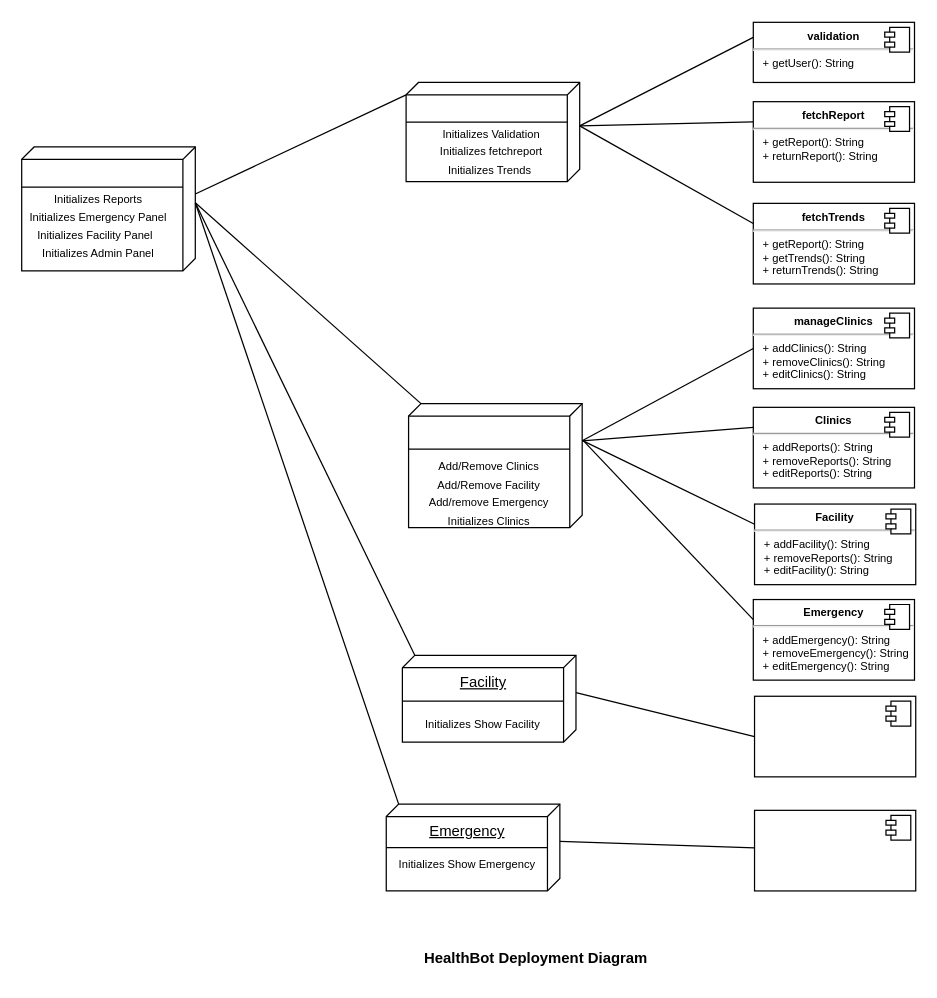
Some shapes in this 937 by 998 pixel diagram are drawn without their labels. The box of each missing label's shape, as (x1, y1, x2, y2) in pixels:
Admin Panel: (407, 402, 582, 528)
Chatbot Interface: (20, 146, 195, 271)
Reports: (405, 81, 580, 182)
ShowEmergency + getEmergency(): String + returnEmergency(): String: (753, 809, 916, 891)
ShowFacility + getFacility(): String + returnFacility(): String: (753, 695, 916, 777)
